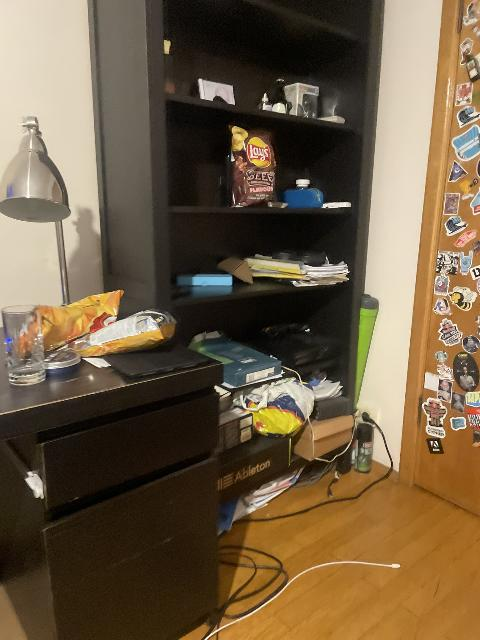Chio Cascaval 125g: (32, 290, 126, 351)
Chio Hula Hoops Cheese 70g: (67, 310, 170, 357)
Lays Beef Grilled Ribs 125g: (227, 125, 279, 207)
